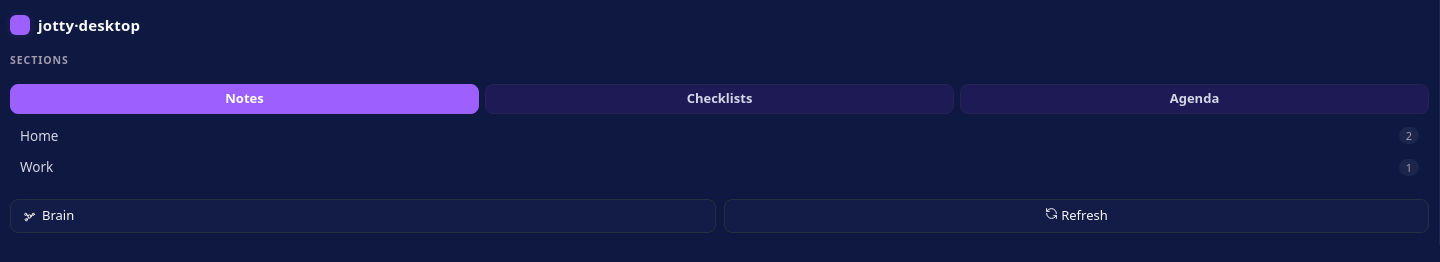
Scenario: Sidebar section switching › only the active section shows its categories
Expected: the text "Errands" is not shown
What coordinates should you click on to do the following:
click the button "Checklists"
I would click on:
 (720, 99)
Its box is 485,84 -> 954,114.
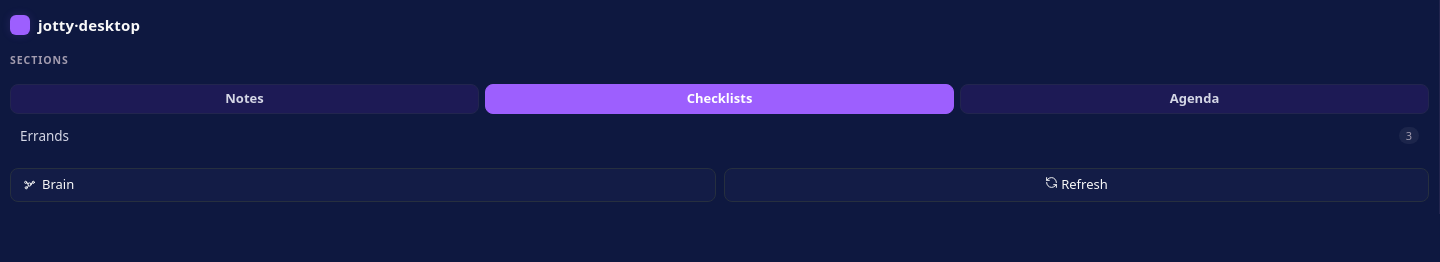
Result: the list item "Errands" is shown at 20,127 -> 69,145
Result: the list item "Work" is gone
Result: the list item "Home" is gone
